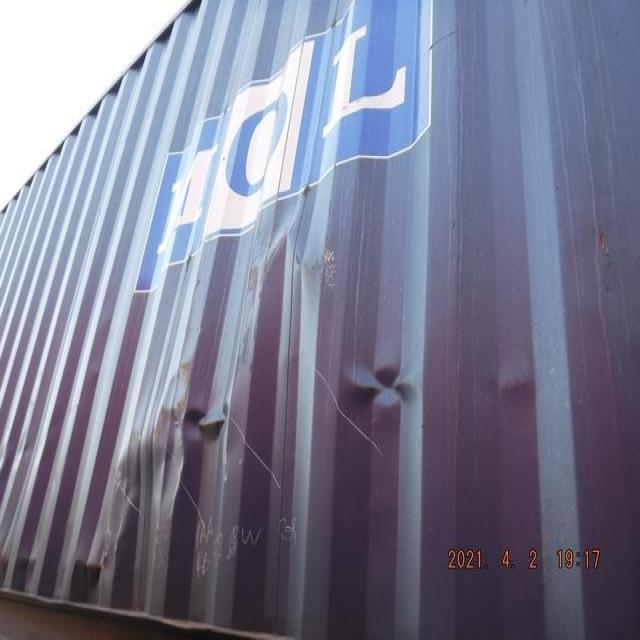dent: (60, 329, 256, 604), (227, 190, 388, 304), (319, 333, 430, 438)
